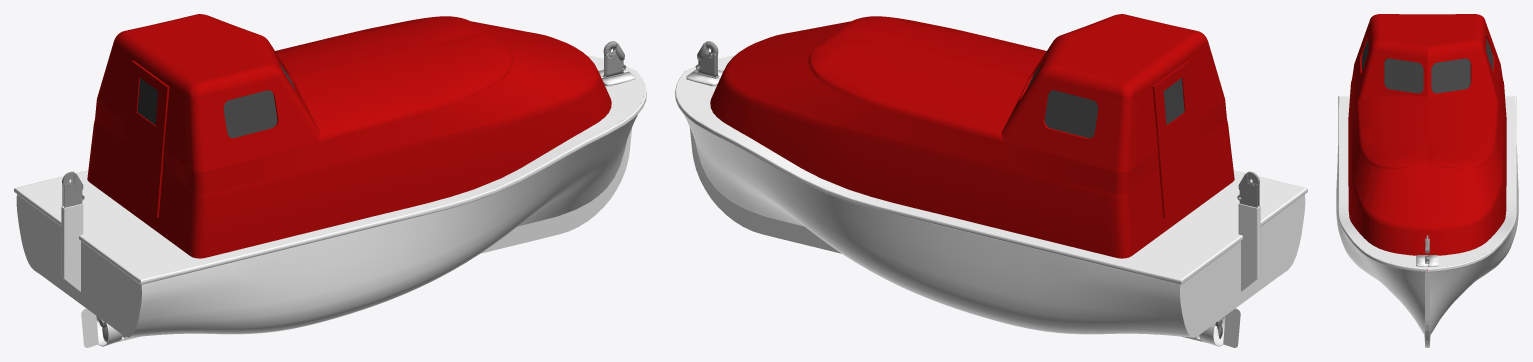
Rendered from LifeBoat01.FBX.
The picture shows the model from 3 angles, left to right: view 1: azimuth 30°, elevation 25°; view 2: azimuth 150°, elevation 25°; view 3: azimuth 270°, elevation 25°; orthographic projection. The views are drawn at different scales.
Parts seen in each view (by area): view 1: Obj_000102, Obj_000152, Obj_000147, Obj_000020, Obj_000021, Obj_000044, Obj_000004, Obj_000022, Obj_165, Obj_000001, Obj_000005, Obj_000043 (+13 smaller); view 2: Obj_000139, Obj_000152, Obj_154, Obj_000044, Obj_000021, Obj_000020, Obj_000028, Obj_165, Obj_000046, Obj_000102, Obj_000025, Obj_000029 (+14 smaller); view 3: Obj_000152, Obj_000020, Obj_000044, Obj_154, Obj_000147, Obj_000021, Obj_000102, Obj_000139, Obj_000006, Obj_000030, Obj_000019, Obj_000043 (+12 smaller).
Part boxes in pixels (x1=…): Obj_000102: x1=79, y1=96, x2=643, y2=337; Obj_000152: x1=87, y1=32, x2=611, y2=258; Obj_000147: x1=206, y1=33, x2=593, y2=193; Obj_000020: x1=293, y1=33, x2=513, y2=141; Obj_000021: x1=17, y1=56, x2=644, y2=279; Obj_000044: x1=275, y1=16, x2=484, y2=78; Obj_000004: x1=200, y1=78, x2=317, y2=171; Obj_000022: x1=140, y1=71, x2=646, y2=284; Obj_165: x1=16, y1=194, x2=79, y2=302; Obj_000001: x1=152, y1=34, x2=283, y2=98; Obj_000005: x1=151, y1=71, x2=205, y2=172; Obj_000043: x1=129, y1=15, x2=251, y2=56; Obj_000139: x1=678, y1=96, x2=1191, y2=337; Obj_000152: x1=710, y1=32, x2=1234, y2=258; Obj_154: x1=728, y1=33, x2=1115, y2=193; Obj_000044: x1=808, y1=33, x2=1028, y2=141; Obj_000021: x1=677, y1=56, x2=1304, y2=279; Obj_000020: x1=837, y1=16, x2=1046, y2=78; Obj_000028: x1=1004, y1=78, x2=1121, y2=171; Obj_165: x1=1180, y1=241, x2=1242, y2=337; Obj_000046: x1=675, y1=71, x2=1181, y2=284; Obj_000102: x1=697, y1=119, x2=1305, y2=302; Obj_000025: x1=1038, y1=34, x2=1169, y2=98; Obj_000029: x1=1116, y1=71, x2=1170, y2=172; Obj_000152: x1=1348, y1=80, x2=1506, y2=270; Obj_000020: x1=1356, y1=95, x2=1427, y2=168; Obj_000044: x1=1427, y1=95, x2=1498, y2=168; Obj_154: x1=1427, y1=65, x2=1502, y2=224; Obj_000147: x1=1352, y1=65, x2=1427, y2=224; Obj_000021: x1=1339, y1=96, x2=1515, y2=268; Obj_000102: x1=1336, y1=145, x2=1425, y2=334; Obj_000139: x1=1429, y1=145, x2=1518, y2=334; Obj_000006: x1=1362, y1=51, x2=1427, y2=100; Obj_000030: x1=1427, y1=51, x2=1492, y2=100; Obj_000019: x1=1379, y1=15, x2=1427, y2=45; Obj_000043: x1=1427, y1=15, x2=1475, y2=45.
Size of the model in its own units: 6.1 by 2.76 by 2.38.
